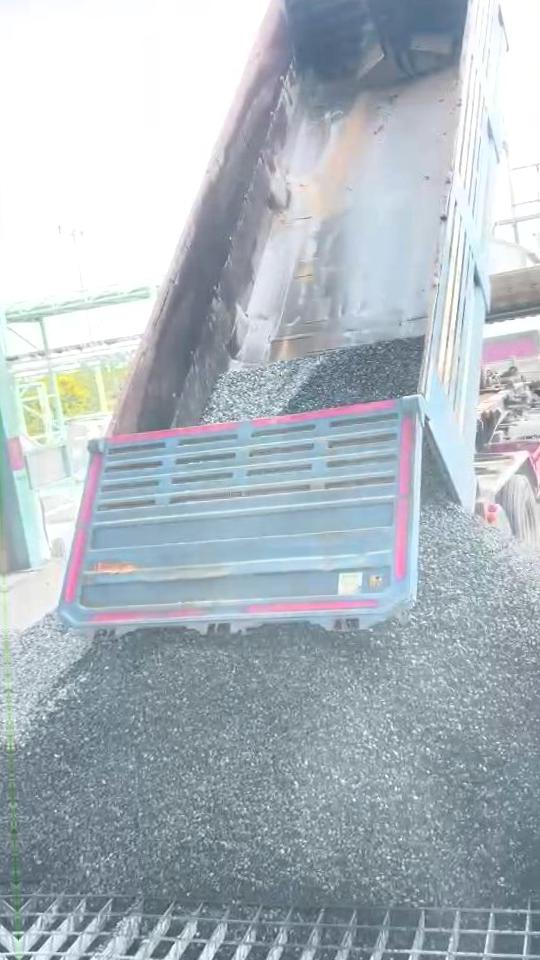gravel: (16, 489, 540, 904), (200, 338, 423, 422), (9, 612, 89, 744)
